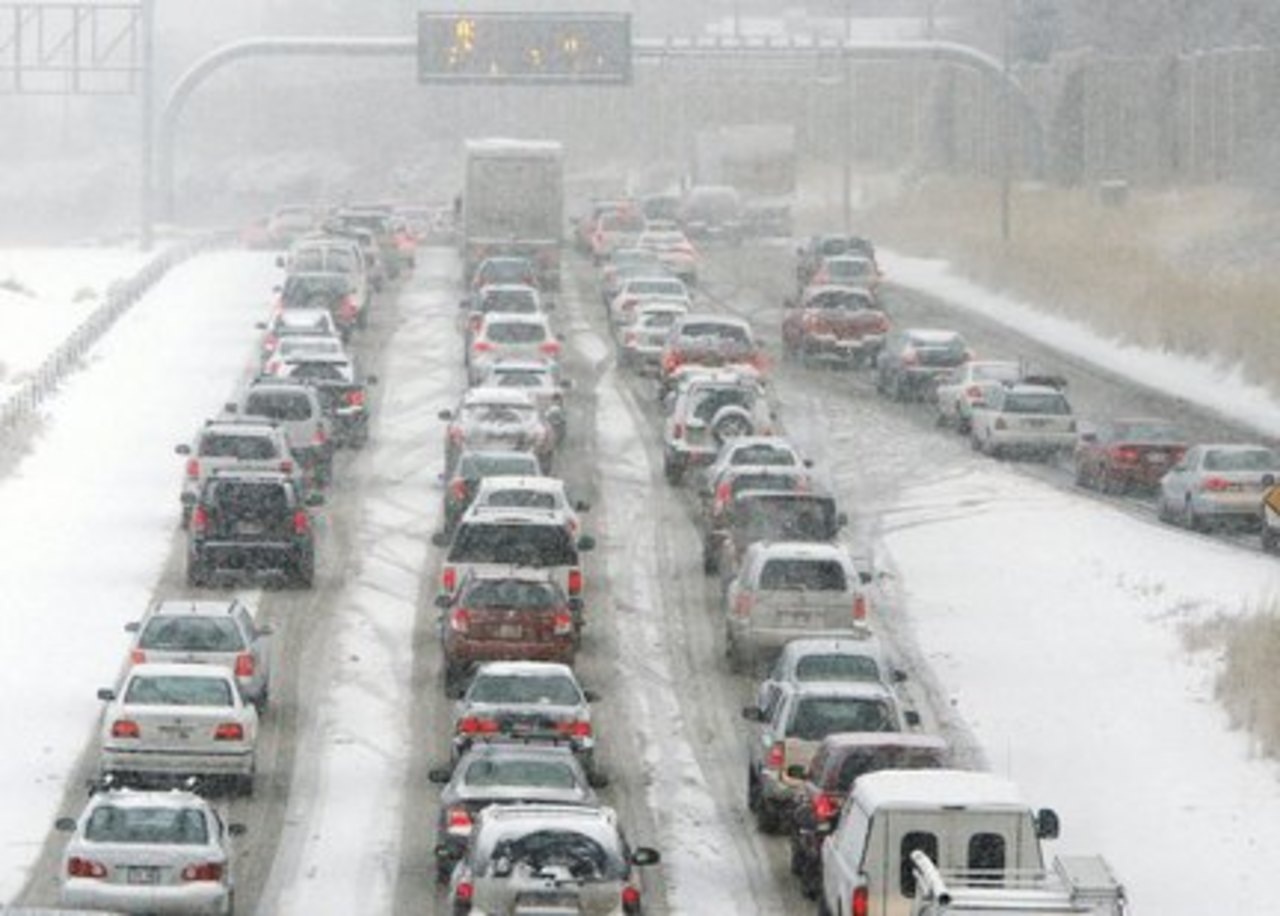car: (823, 757, 1123, 912), (90, 660, 262, 800), (436, 757, 606, 890), (55, 791, 237, 915), (432, 512, 585, 643), (109, 629, 275, 748), (461, 805, 640, 915), (765, 703, 915, 825), (449, 660, 599, 775), (129, 600, 279, 712), (730, 542, 859, 666), (799, 734, 947, 836), (186, 471, 313, 588), (752, 644, 913, 730), (444, 575, 568, 678), (1154, 446, 1277, 531), (185, 420, 301, 509), (235, 381, 334, 481), (659, 380, 769, 467), (717, 491, 831, 568), (705, 438, 813, 517), (463, 477, 583, 546), (280, 358, 379, 440), (975, 386, 1079, 463), (789, 294, 892, 371), (658, 315, 765, 388), (461, 390, 559, 469), (1086, 424, 1191, 497), (874, 328, 971, 402), (447, 451, 543, 523), (287, 240, 369, 321), (467, 314, 561, 383), (261, 336, 356, 395), (279, 271, 366, 335), (932, 365, 1020, 428), (801, 243, 883, 301), (632, 231, 706, 282), (326, 227, 382, 293), (256, 311, 344, 351), (682, 192, 747, 246), (607, 275, 682, 319), (620, 303, 677, 355), (592, 203, 645, 256), (364, 223, 400, 284)
truck: (458, 141, 563, 290)
